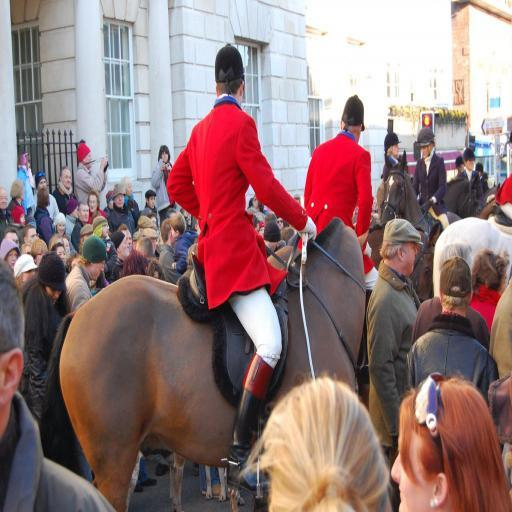Horse: (38, 216, 368, 512), (378, 150, 461, 236), (357, 222, 440, 304), (432, 217, 512, 302), (442, 175, 479, 215)
